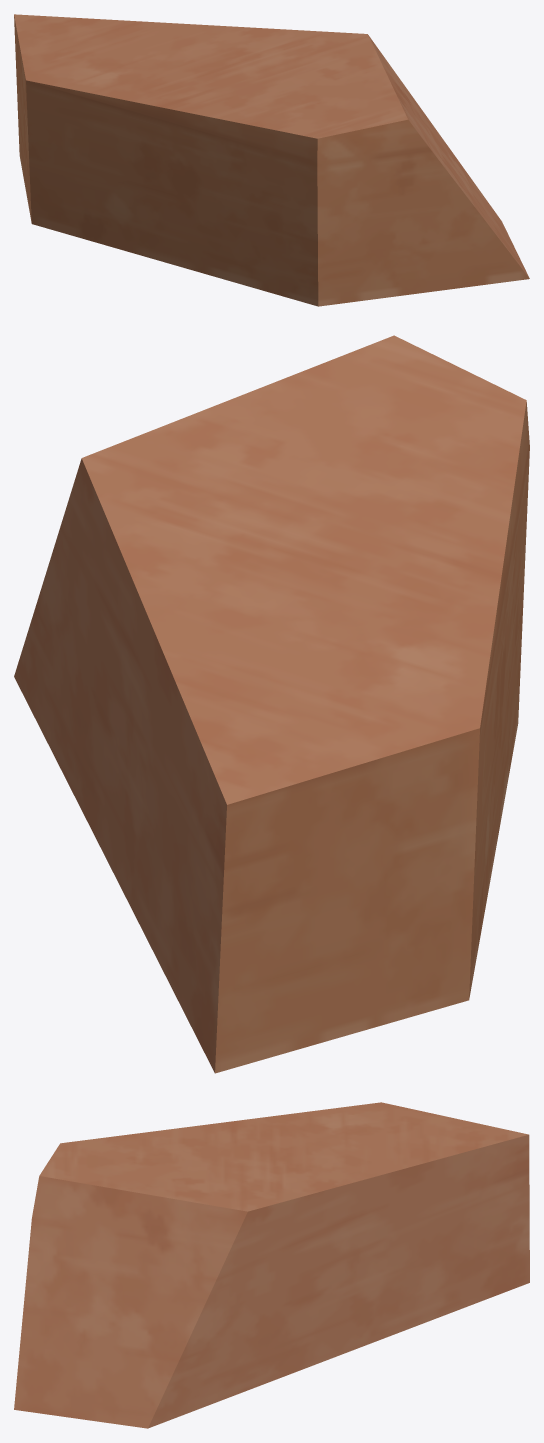
The model's file is kiln_s03.fbx.
3 views of the same model, one above another, from view 1: azimuth 30°, elevation 25°; view 2: azimuth 150°, elevation 25°; view 3: azimuth 270°, elevation 25° (orthographic). The views are drawn at different scales.
Parts seen in each view (by area): view 1: kiln_s03; view 2: kiln_s03; view 3: kiln_s03.
Boxes of the visible parts, x1,y1,x2,y2 form: kiln_s03: (14, 14, 529, 306); kiln_s03: (14, 335, 529, 1073); kiln_s03: (14, 1102, 529, 1428).
Size of the model in its own units: 3.13 by 1.47 by 3.81.
